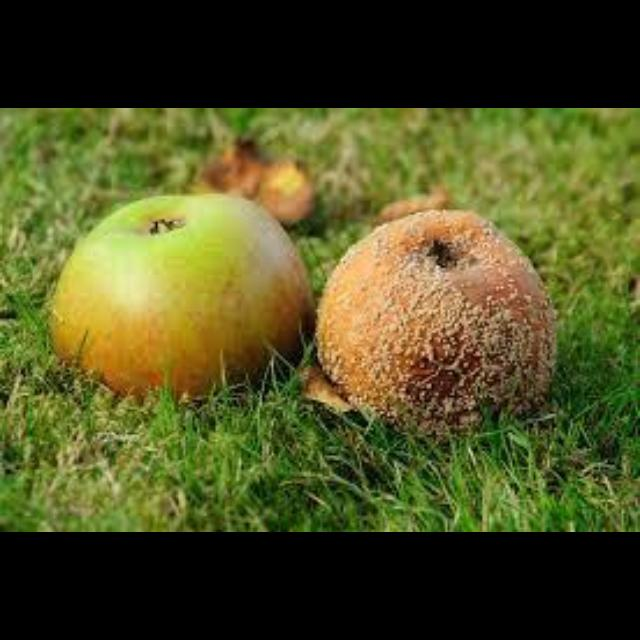apple: (51, 194, 313, 398), (318, 210, 554, 433)
rotten: (318, 210, 554, 433)
